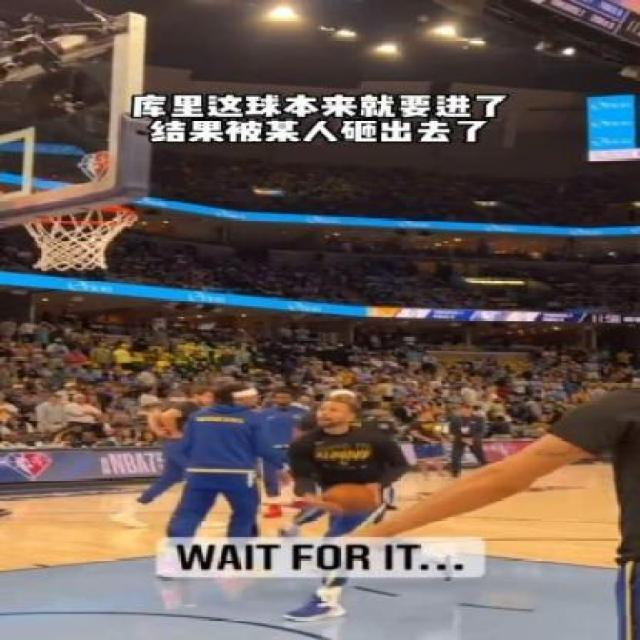rim: (13, 204, 138, 272)
